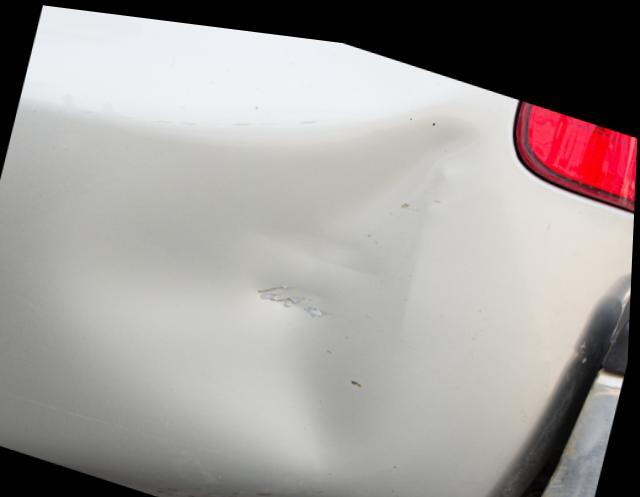dent: (65, 99, 480, 460)
scratch: (150, 471, 415, 497)
